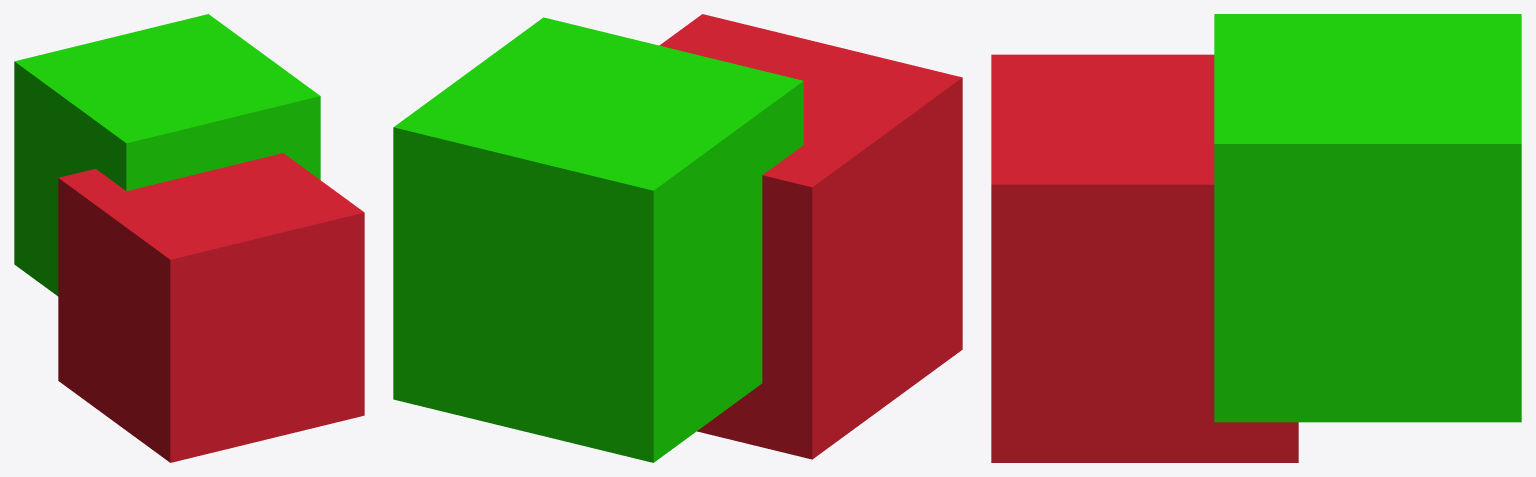
The model's file is twocubes.glb.
The picture shows the model from 3 angles, left to right: view 1: azimuth 30°, elevation 25°; view 2: azimuth 150°, elevation 25°; view 3: azimuth 270°, elevation 25°; orthographic projection. The views are drawn at different scales.
Parts seen in each view (by area): view 1: Cube; view 2: Cube; view 3: Cube.
Boxes of the visible parts, x1,y1,x2,y2 form: Cube: (14, 14, 364, 462); Cube: (393, 14, 962, 462); Cube: (991, 14, 1521, 462).
Size of the model in its own units: 2.38 by 2.47 by 3.45.
